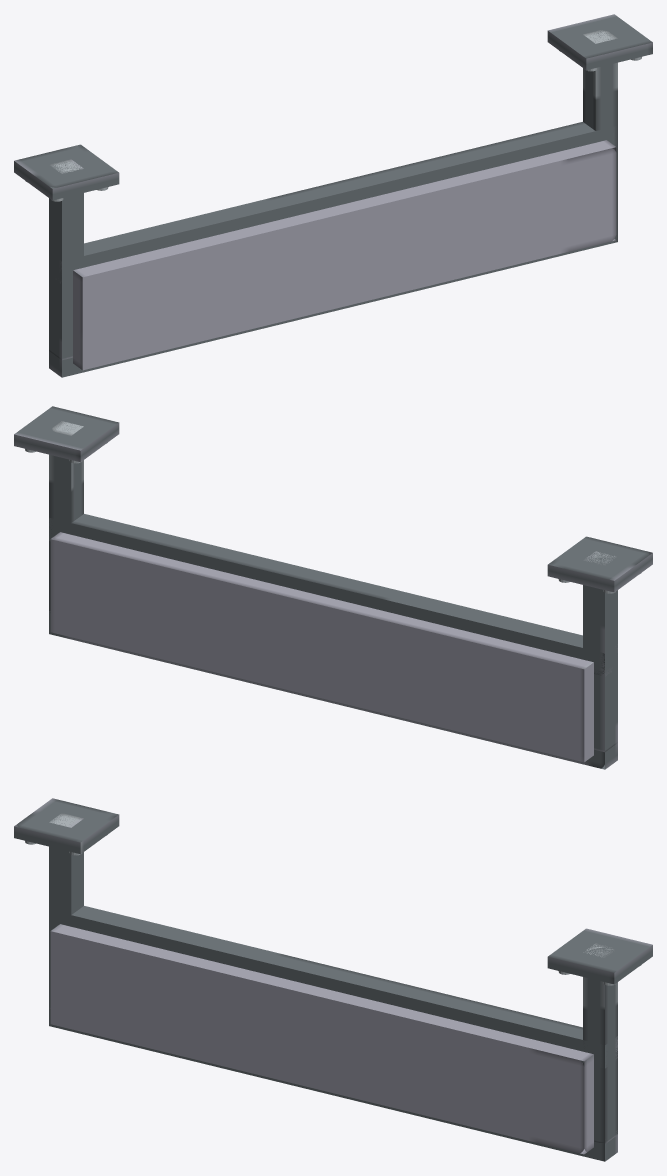
The model's file is nl_station_sign_hanging_mrw.obj.
3 renders of one model, top to bottom at view 1: azimuth 30°, elevation 25°; view 2: azimuth 150°, elevation 25°; view 3: azimuth 330°, elevation 25°, orthographic.
Visible parts, largest first — view 1: sign_back, pole_top, pole_right, foot_right, foot_left, pole_left; view 2: sign_front, pole_top, pole_right, foot_right, foot_left, pole_left; view 3: sign_back, pole_top, pole_left, foot_left, foot_right, pole_right.
Part boxes in pixels (x1,y1,x2,y2): sign_back: (73, 140, 616, 370); pole_top: (49, 122, 617, 377); pole_right: (49, 159, 83, 360); foot_right: (14, 144, 119, 200); foot_left: (547, 14, 652, 70); pole_left: (583, 30, 617, 222); sign_front: (50, 532, 593, 762); pole_top: (49, 514, 617, 769); pole_right: (583, 551, 617, 752); foot_right: (547, 536, 652, 592); foot_left: (14, 406, 119, 462); pole_left: (49, 421, 83, 612); sign_back: (50, 924, 593, 1154); pole_top: (49, 906, 617, 1161); pole_left: (583, 943, 617, 1143); foot_left: (547, 928, 652, 984); foot_right: (14, 798, 119, 854); pole_right: (49, 813, 83, 1008).
Size of the model in its own units: 3.38 by 1.09 by 0.375.
Materials: 1 (1 with a texture image).
